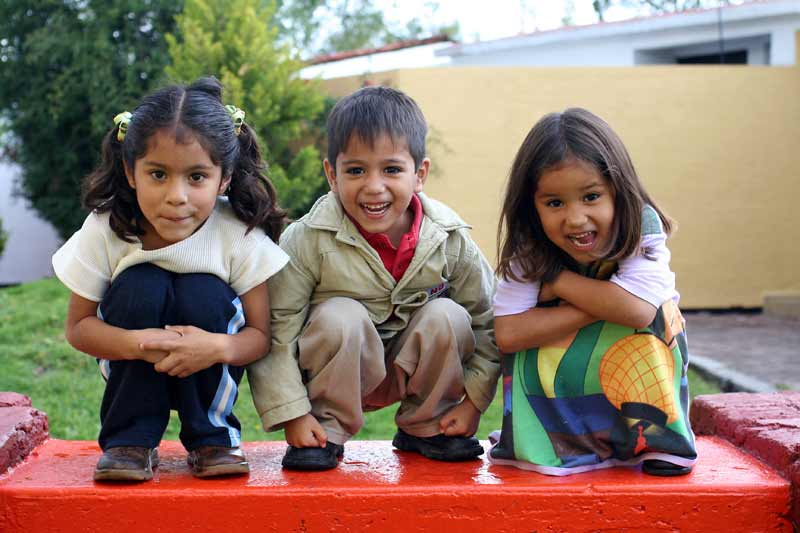human: (265, 79, 507, 496), (48, 62, 278, 494), (494, 101, 728, 482)
